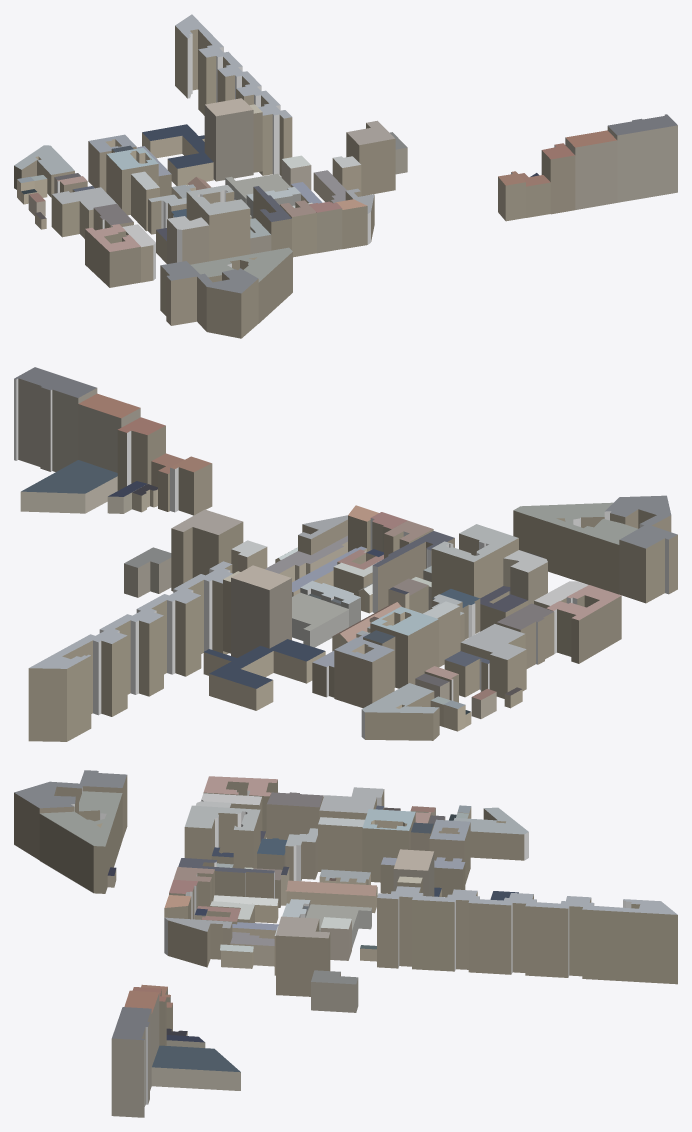
3 views of the same model, one above another, from view 1: azimuth 30°, elevation 25°; view 2: azimuth 150°, elevation 25°; view 3: azimuth 270°, elevation 25° (orthographic). The views are drawn at different scales.
Parts seen in each view (by area): view 1: tuile; view 2: tuile; view 3: tuile.
Part boxes in pixels (x1=…): tuile: x1=14, y1=14, x2=677, y2=338; tuile: x1=14, y1=367, x2=677, y2=741; tuile: x1=14, y1=770, x2=677, y2=1117.
Size of the model in its own units: 267 by 33.92 by 252.
